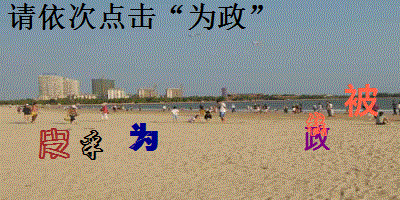result: (186, 2, 249, 30)
text: (342, 81, 380, 119), (36, 128, 72, 161), (127, 120, 160, 153), (302, 125, 334, 153), (79, 130, 104, 161), (305, 111, 329, 138)
